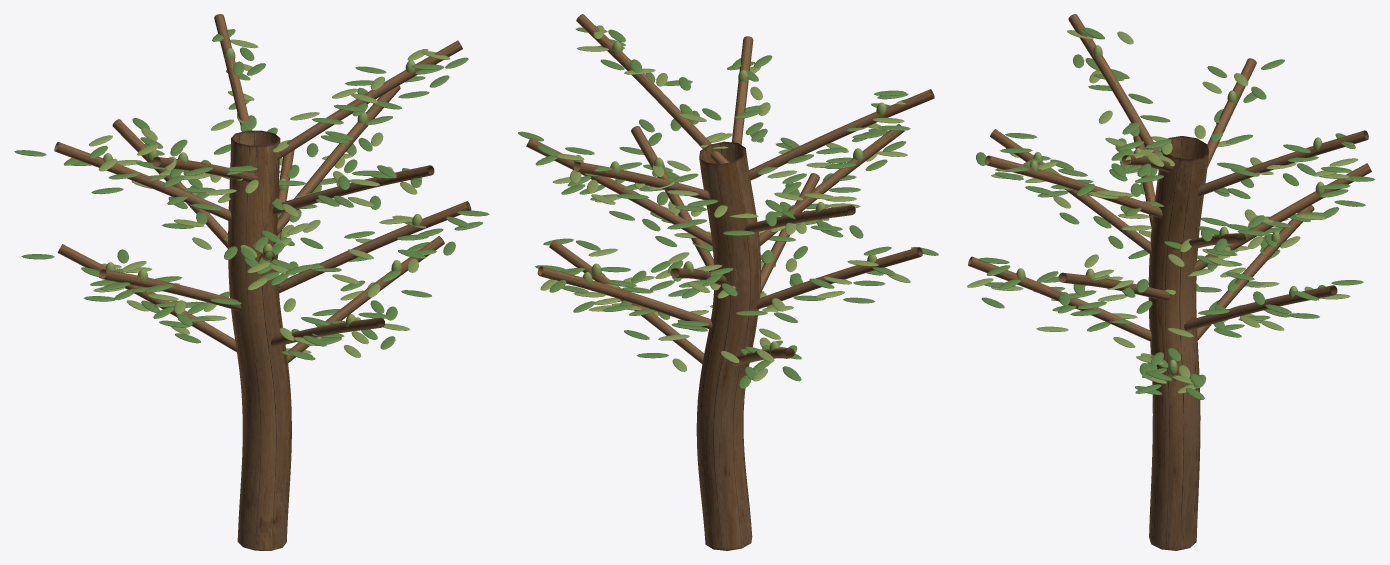
File: amendoeira.glb
The picture shows the model from 3 angles, left to right: view 1: azimuth 30°, elevation 25°; view 2: azimuth 150°, elevation 25°; view 3: azimuth 270°, elevation 25°; orthographic projection.
Parts seen in each view (by area): view 1: Tronco, Ramo.005, Ramo.013, Ramo.009, Ramo.008, Ramo.010, Ramo.001, Ramo.004, Ramo, Ramo.002, Ramo.011, Ramo.006 (+1 smaller); view 2: Tronco, Ramo.012, Ramo.003, Ramo.013, Ramo.004, Ramo.008, Ramo.007, Ramo, Ramo.011, Ramo.009, Ramo.005, Ramo.010 (+1 smaller); view 3: Tronco, Ramo.002, Ramo.011, Ramo.010, Ramo.012, Ramo.003, Ramo.007, Ramo.006, Ramo.001, Ramo.005, Ramo.009, Ramo.008.
Part boxes in pixels (x1,y1,x2,y2): Tronco: (228, 130, 291, 550); Ramo.005: (278, 201, 471, 293); Ramo.013: (277, 40, 462, 160); Ramo.009: (54, 142, 231, 221); Ramo.008: (277, 85, 400, 235); Ramo.010: (272, 165, 434, 214); Ramo.001: (57, 244, 236, 352); Ramo.004: (99, 269, 241, 310); Ramo: (287, 236, 444, 363); Ramo.002: (271, 317, 384, 347); Ramo.011: (214, 14, 249, 125); Ramo.006: (112, 119, 227, 248); Tronco: (696, 141, 760, 550); Ramo.012: (749, 89, 934, 180); Ramo.003: (537, 266, 712, 329); Ramo.013: (576, 14, 728, 164); Ramo.004: (757, 247, 922, 309); Ramo.008: (526, 138, 712, 246); Ramo.007: (759, 124, 904, 246); Ramo: (549, 240, 704, 363); Ramo.011: (573, 161, 709, 200); Ramo.009: (744, 205, 855, 232); Ramo.005: (631, 126, 713, 271); Ramo.010: (732, 36, 753, 144); Tronco: (1148, 136, 1209, 550); Ramo.002: (968, 256, 1151, 341); Ramo.011: (1198, 130, 1368, 196); Ramo.010: (985, 155, 1162, 217); Ramo.012: (1068, 14, 1159, 169); Ramo.003: (1184, 285, 1337, 330); Ramo.007: (990, 129, 1151, 254); Ramo.006: (1193, 163, 1371, 271); Ramo.001: (1197, 205, 1314, 340); Ramo.005: (1058, 272, 1169, 300); Ramo.009: (1207, 58, 1256, 167); Ramo.008: (1172, 233, 1245, 253).
Bounding box in the file's own units: 3.41 × 4.07 × 3.21.
3 materials, 1 textured.
